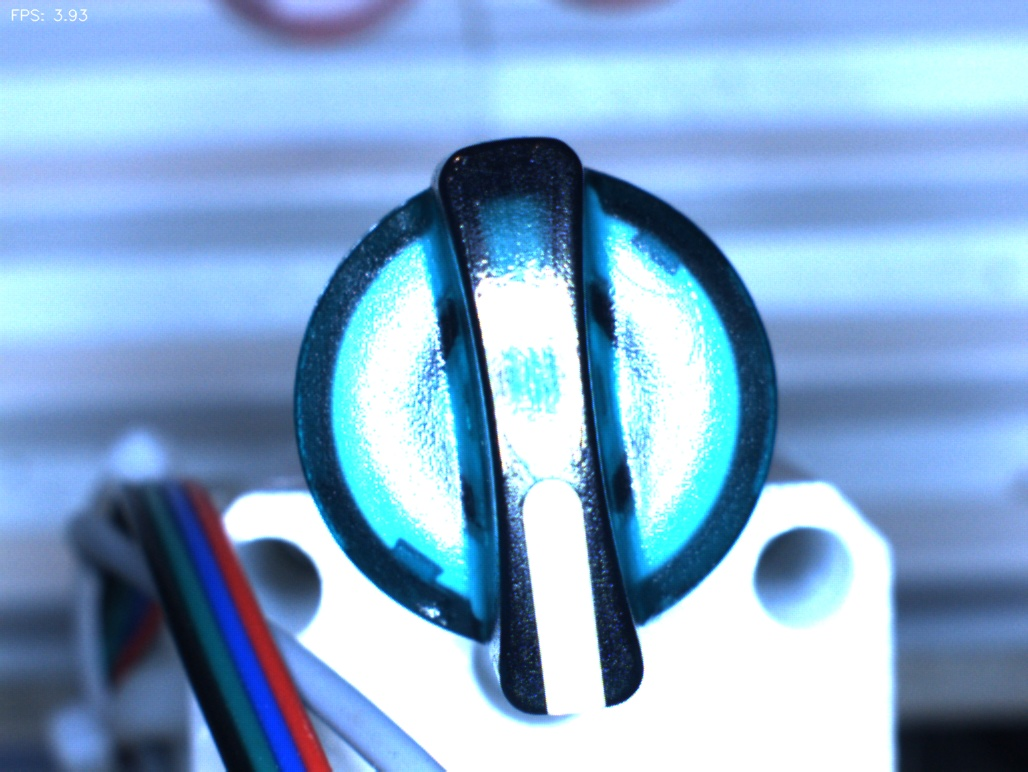Choc: (386, 574, 458, 646)
